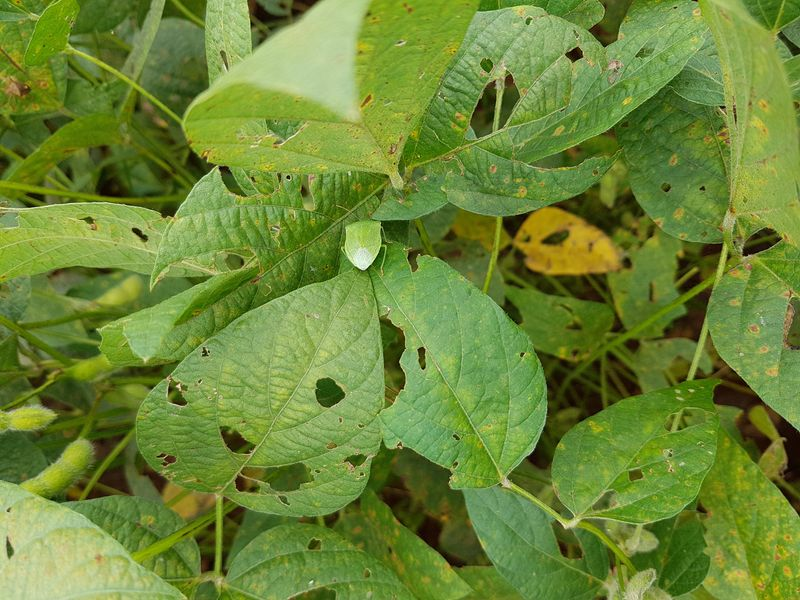Euschistus_heros_adulto: (1, 73, 36, 107)
Nezara_viridula_adulto: (328, 197, 401, 285)
